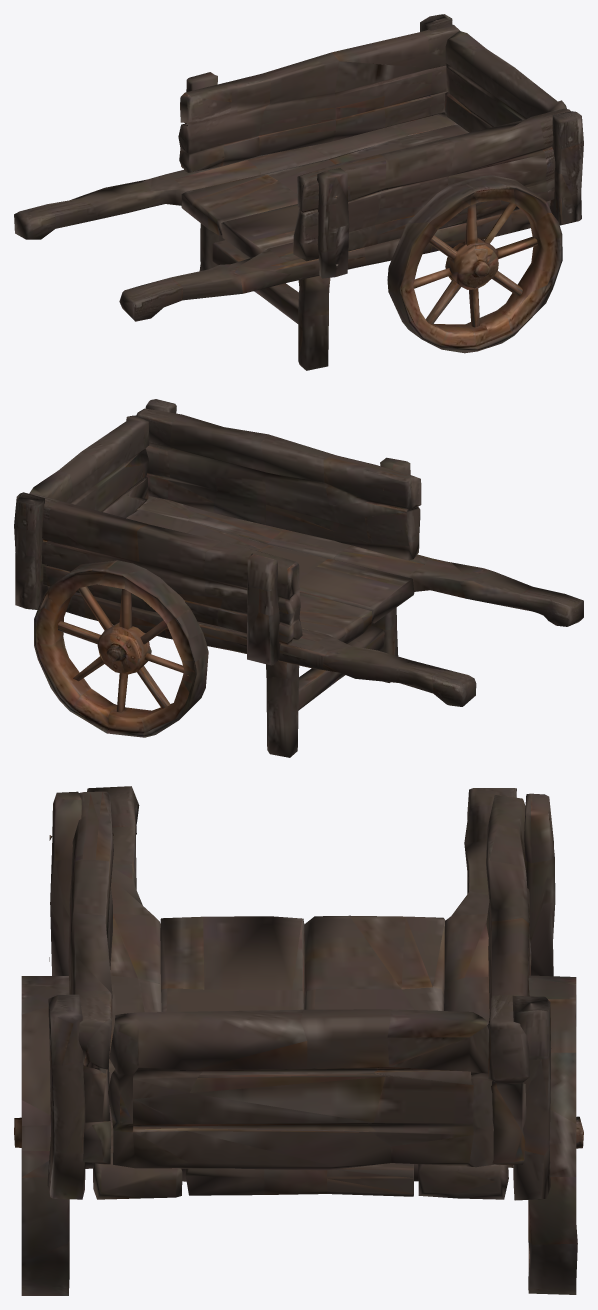
Rendered from handcart.glb.
3 views of the same model, one above another, from view 1: azimuth 30°, elevation 25°; view 2: azimuth 150°, elevation 25°; view 3: azimuth 270°, elevation 25° (orthographic). The views are drawn at different scales.
Size of the model in its own units: 0.9521 by 0.4209 by 0.5933.
1 material, 1 textured.
